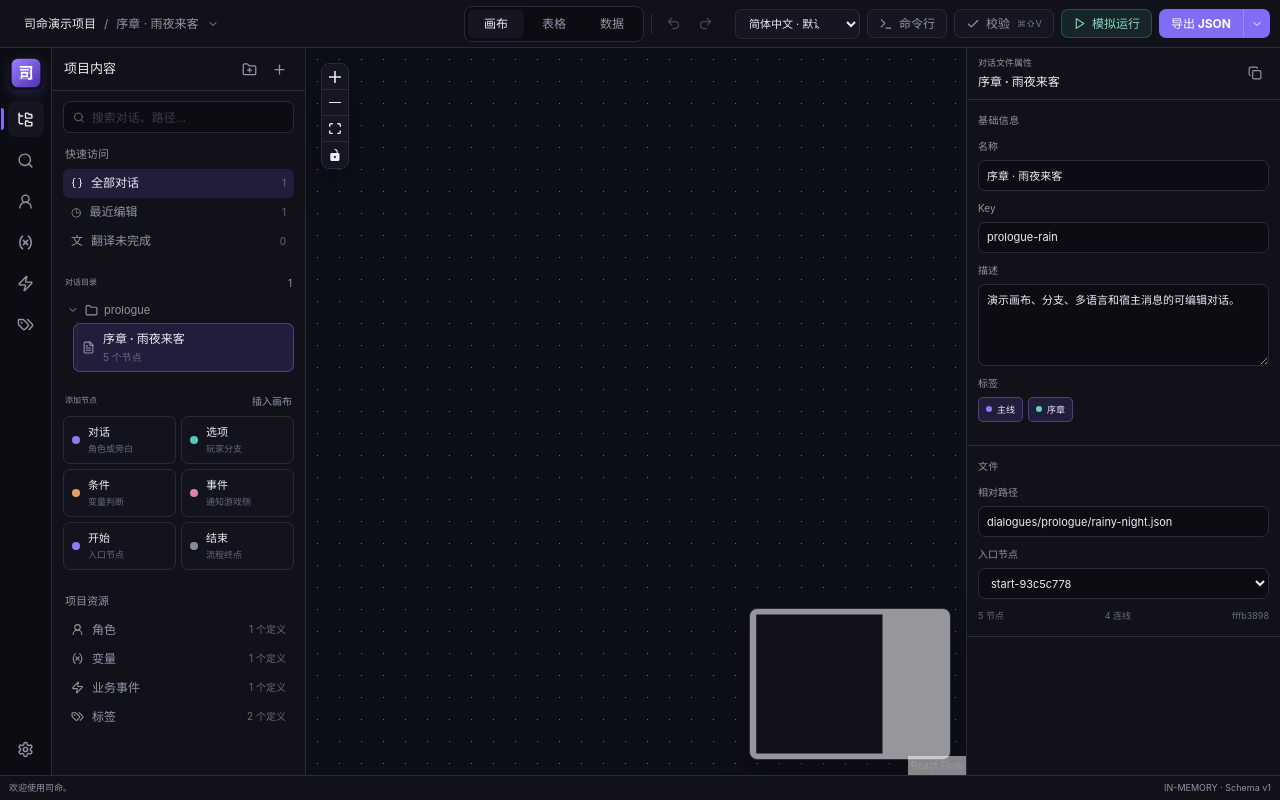
Scenario: project title opens the project menu
Click the button "司命演示项目 / 序章 · 雨夜来客": (60, 23) [18,10,448,38]
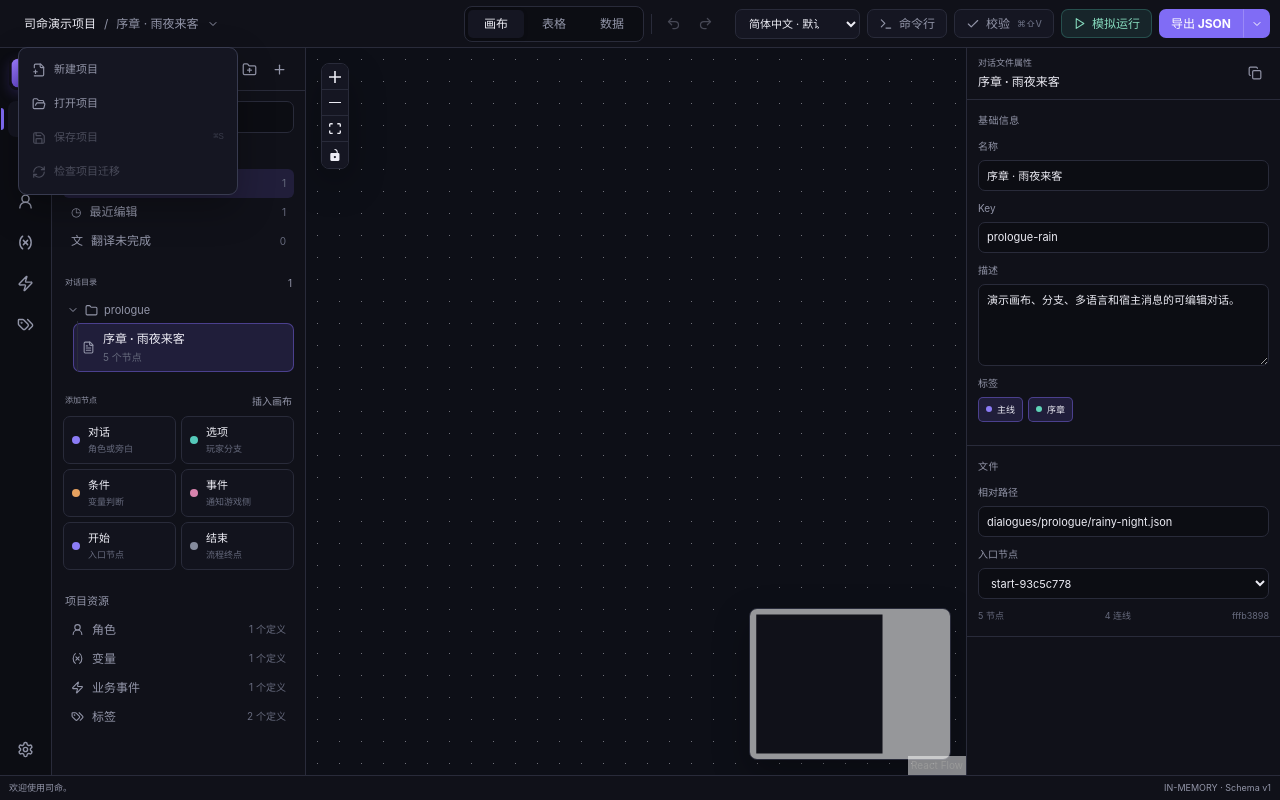
expect the button "新建项目" is shown: met, box [24,52,232,86]
expect the button "打开项目" is shown: met, box [24,86,232,120]
